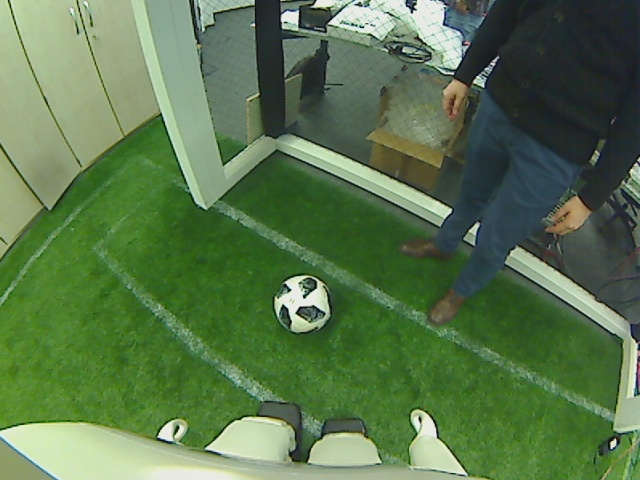ball: (271, 274, 331, 334)
